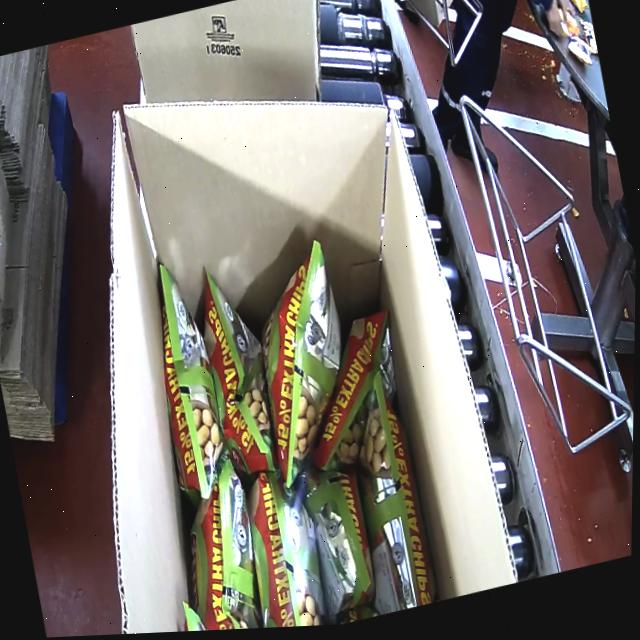YOGURT_HERB: (114, 205, 458, 635)
